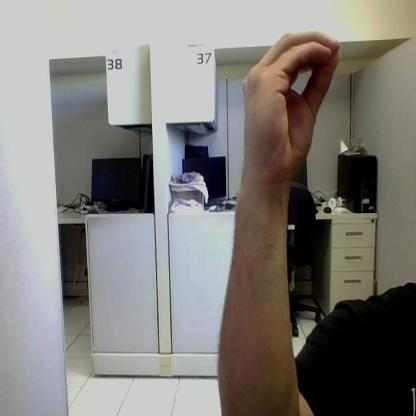O: (242, 30, 340, 174)
